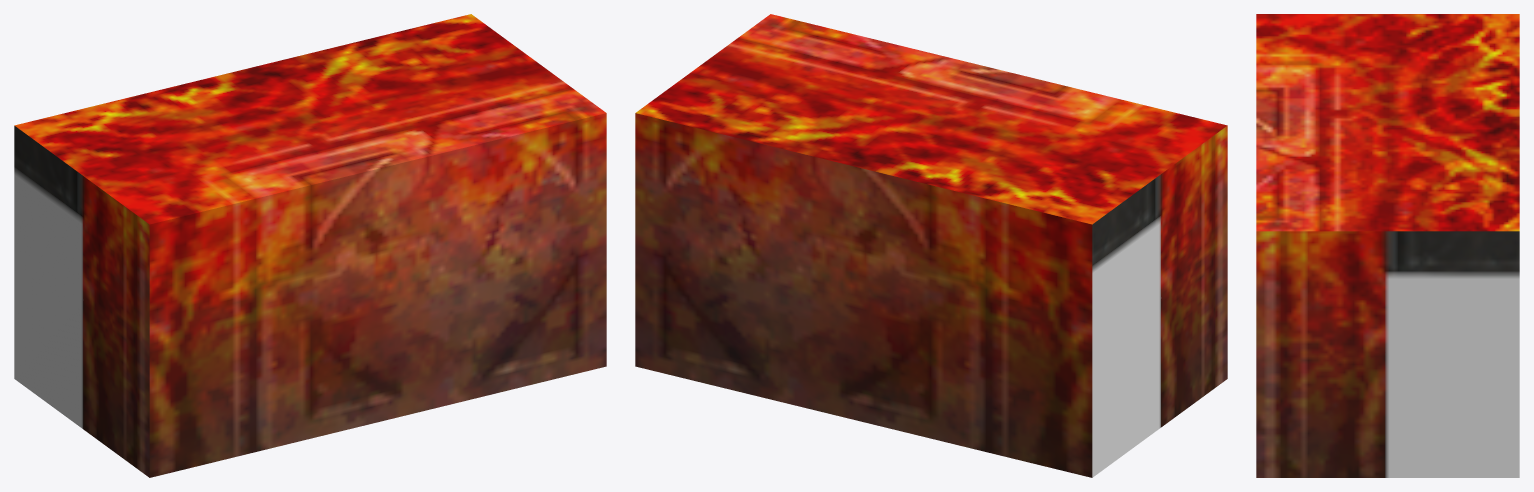
The model's file is blsd_zhuzi_09.FBX.
3 renders of one model, left to right at view 1: azimuth 30°, elevation 25°; view 2: azimuth 150°, elevation 25°; view 3: azimuth 270°, elevation 25°, orthographic. The views are drawn at different scales.
Parts seen in each view (by area): view 1: blsd_zhuzi_09; view 2: blsd_zhuzi_09; view 3: blsd_zhuzi_09.
Part boxes in pixels (x1=…): blsd_zhuzi_09: x1=14, y1=14, x2=606, y2=477; blsd_zhuzi_09: x1=635, y1=14, x2=1227, y2=477; blsd_zhuzi_09: x1=1256, y1=14, x2=1519, y2=477.
Size of the model in its own units: 109 by 56.16 by 58.01.
